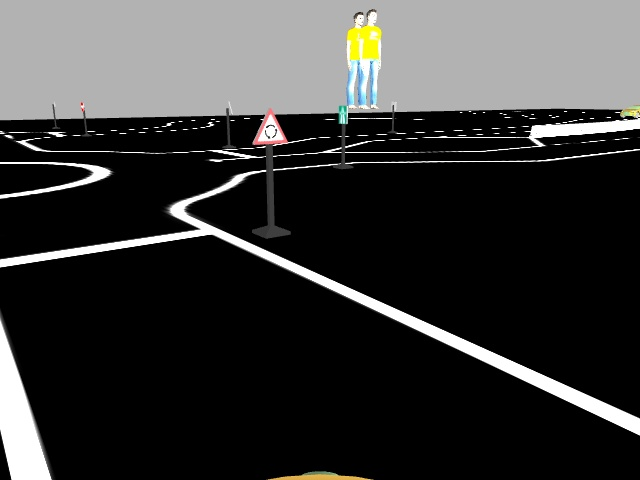HighwayEntrance: (336, 104, 349, 123)
Roundabout: (251, 106, 289, 148)
